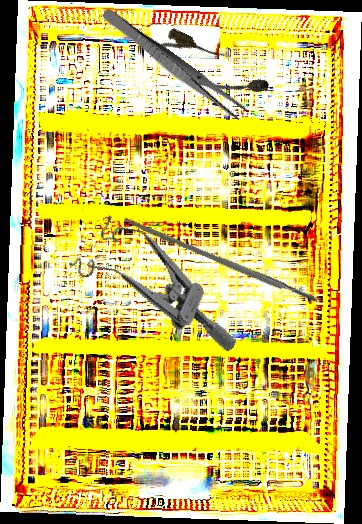Cannula: (150, 25, 274, 113)
Dressing Forceps: (97, 6, 249, 123)
Scalpel Handle: (122, 215, 319, 306)
Speculum: (61, 208, 263, 353)
